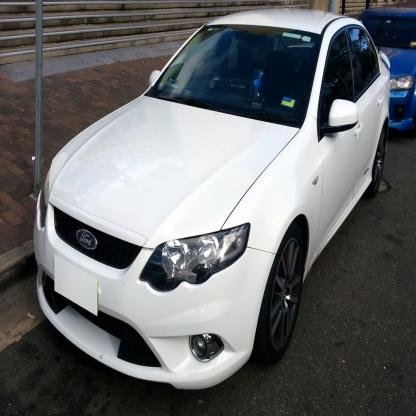Car: (36, 9, 392, 392), (357, 1, 416, 139)
